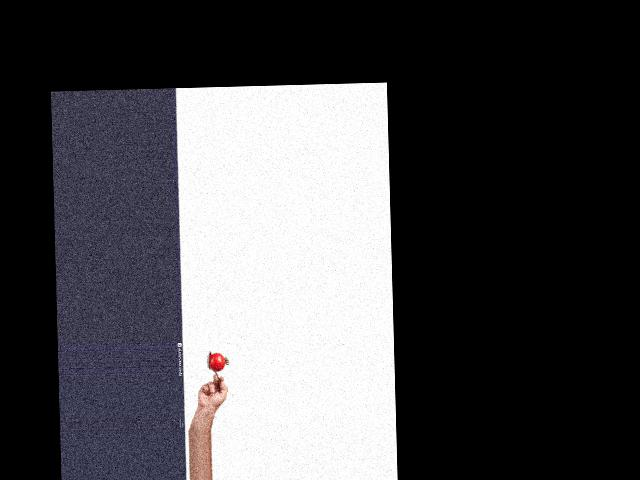tomato: (209, 353, 225, 372)
